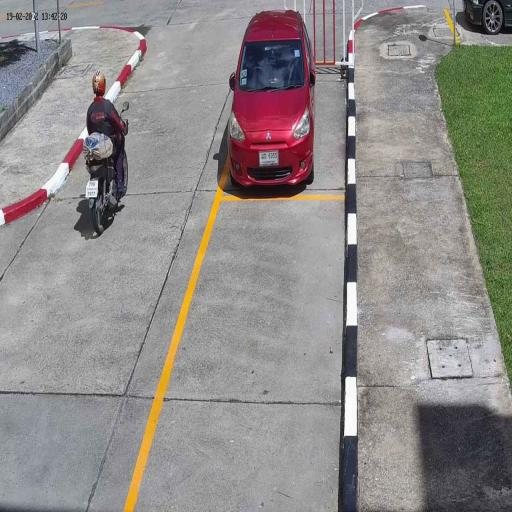car: (227, 9, 316, 190)
motorcycle: (86, 150, 129, 236)
